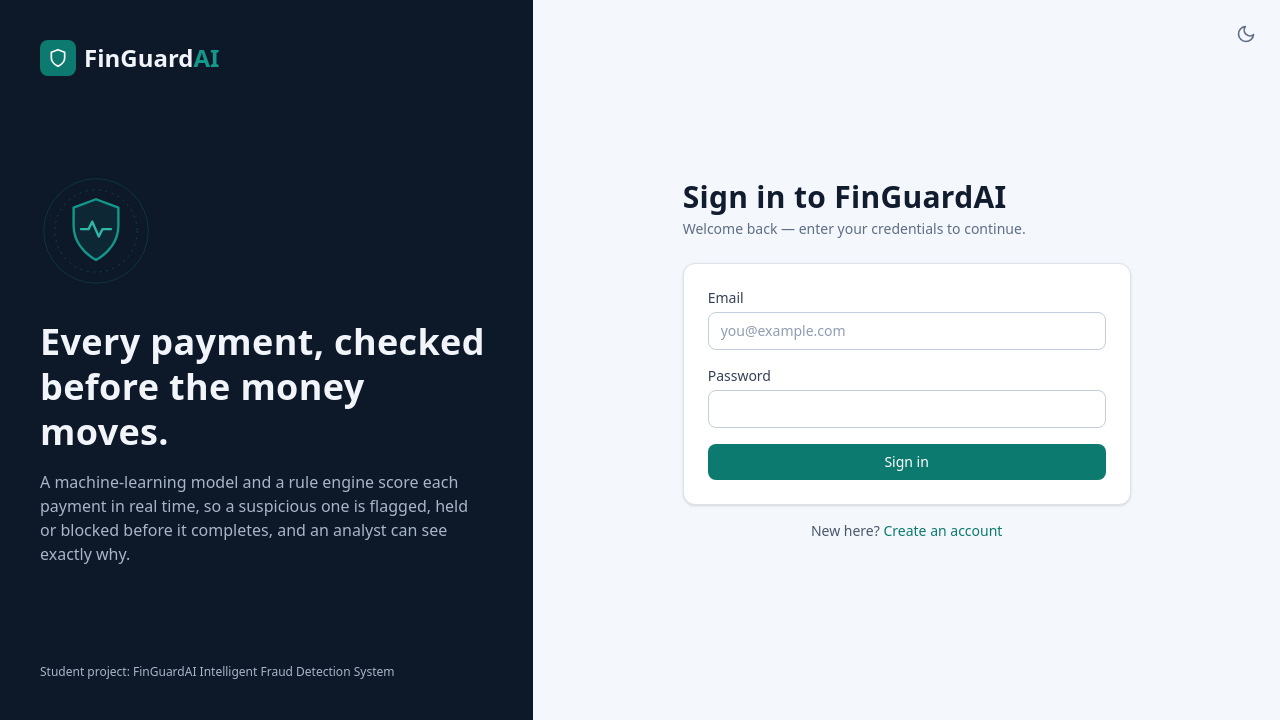
Test: N-17: return to the page the visitor wanted after signing in › deep link → login → back on the deep link when the role may open it
The image size is (1280, 720).
Type "ravi@example.com" into the field labelled "Email".
click(907, 331); type("ravi@example.com")  # box [708,312,1106,350]
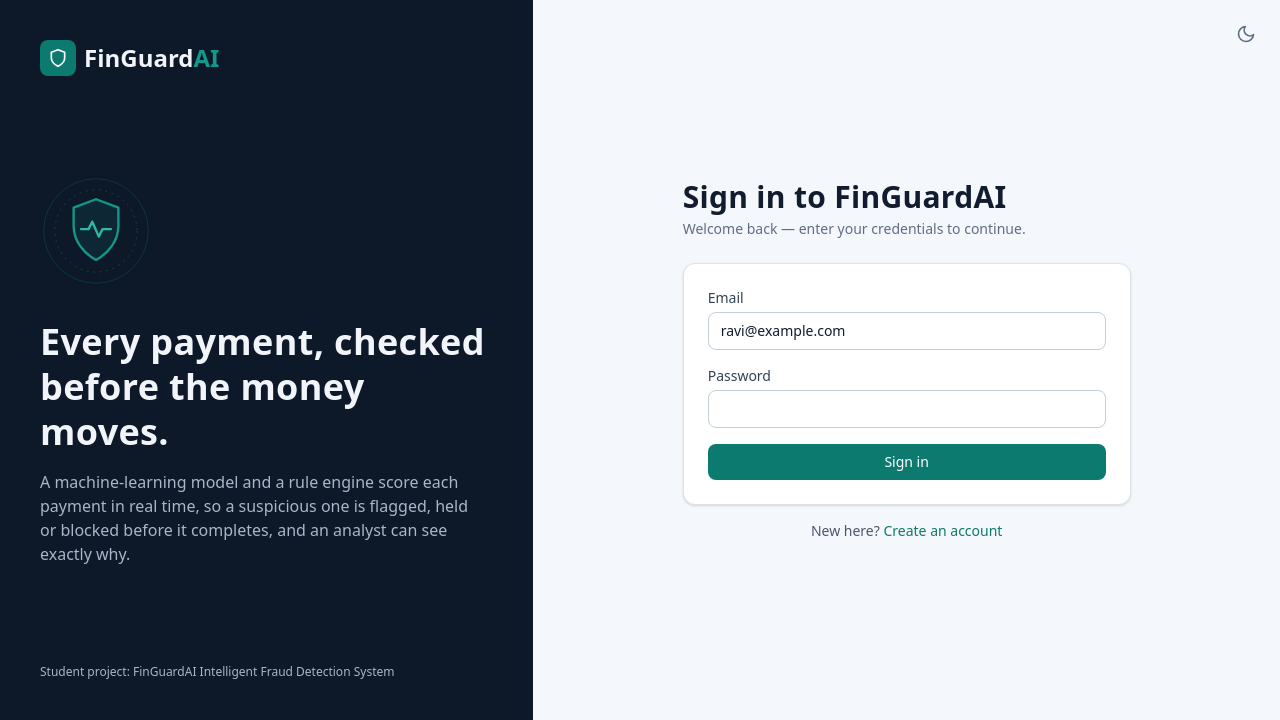
Type "Password@123" into the password field labelled "Password".
click(907, 409); type("Password@123")  # box [708,390,1106,428]
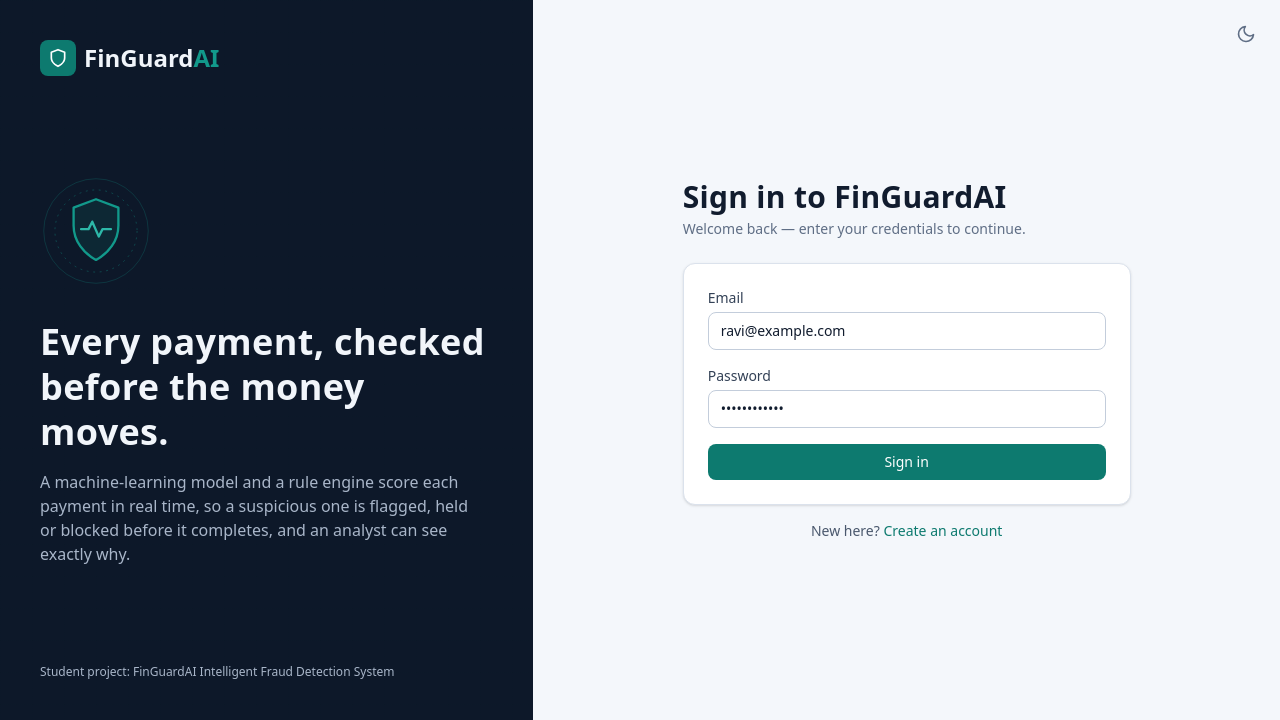
Click the button "Sign in".
click(907, 462)  # box [708,444,1106,480]
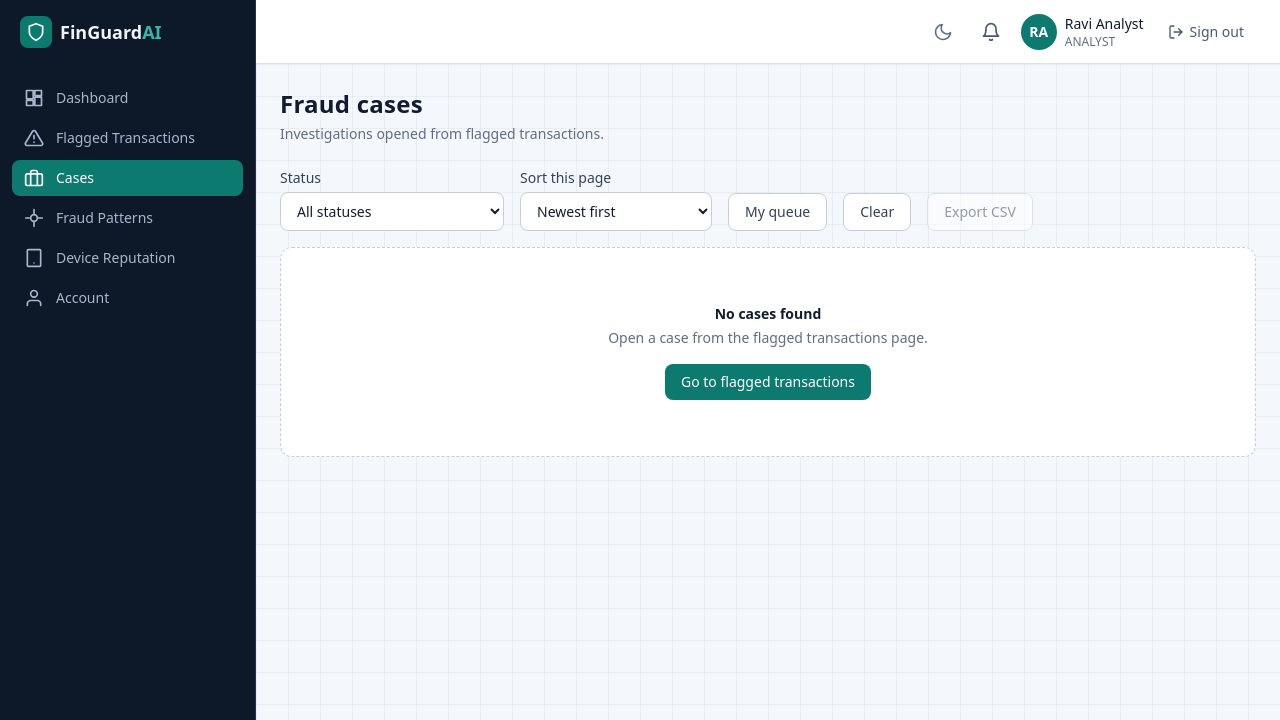
Now the heading "Fraud cases" is shown, box [280,87,423,120]
